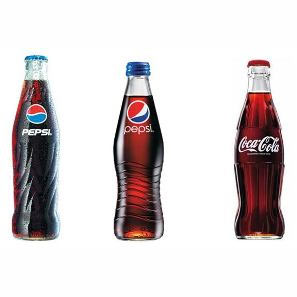botella: (112, 62, 166, 242), (11, 54, 61, 242), (233, 60, 285, 240)
